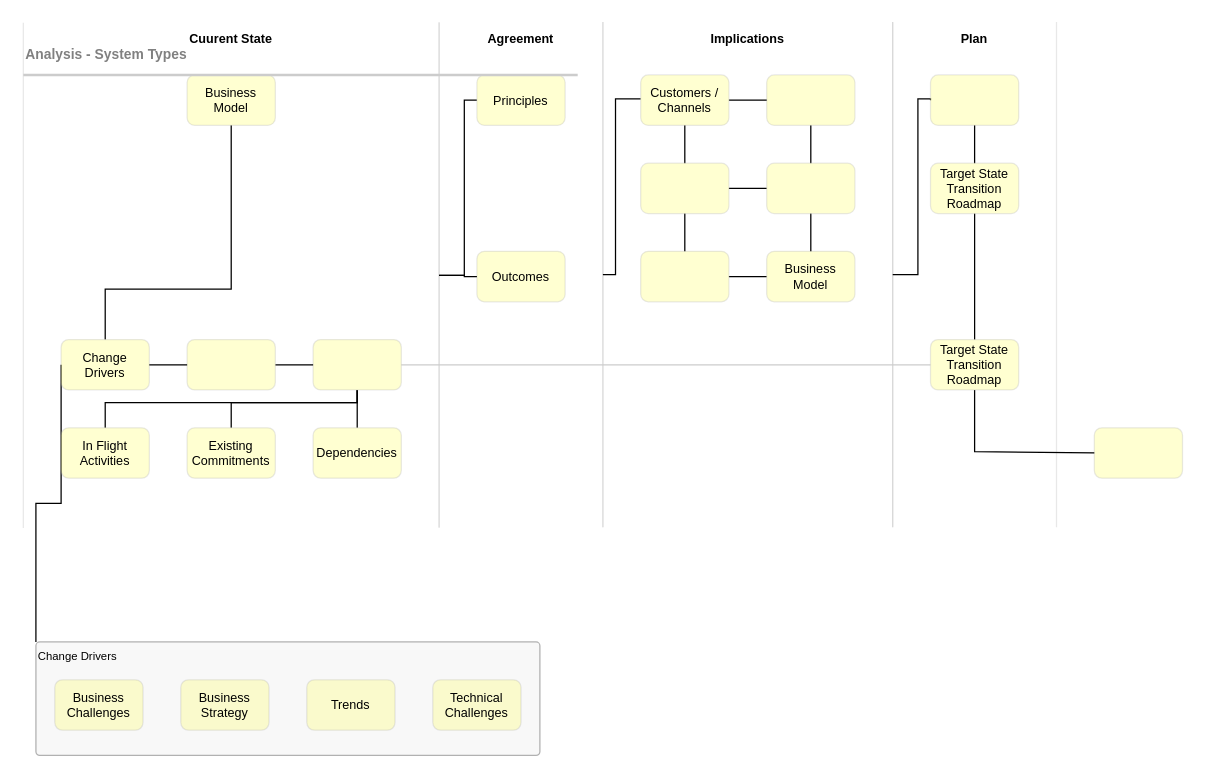
Some shapes in this 1205 by 777 pixel diagram are drawn without their labels. Here are the shapes that lost their labels. From the top down, the box of each, then its label:
(765, 74, 855, 125): Information
(929, 74, 1019, 125): Outcome Stocktake
(639, 162, 729, 214): Process
(765, 162, 855, 214): Technology
(639, 250, 729, 302): People / Skills
(186, 338, 275, 390): Capability Model
(312, 338, 401, 390): Constraints
(1093, 427, 1183, 478): Target State Transititon Roadmap
